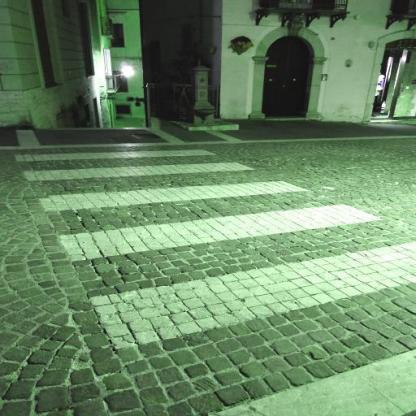crosswalk: (32, 178, 396, 263)
